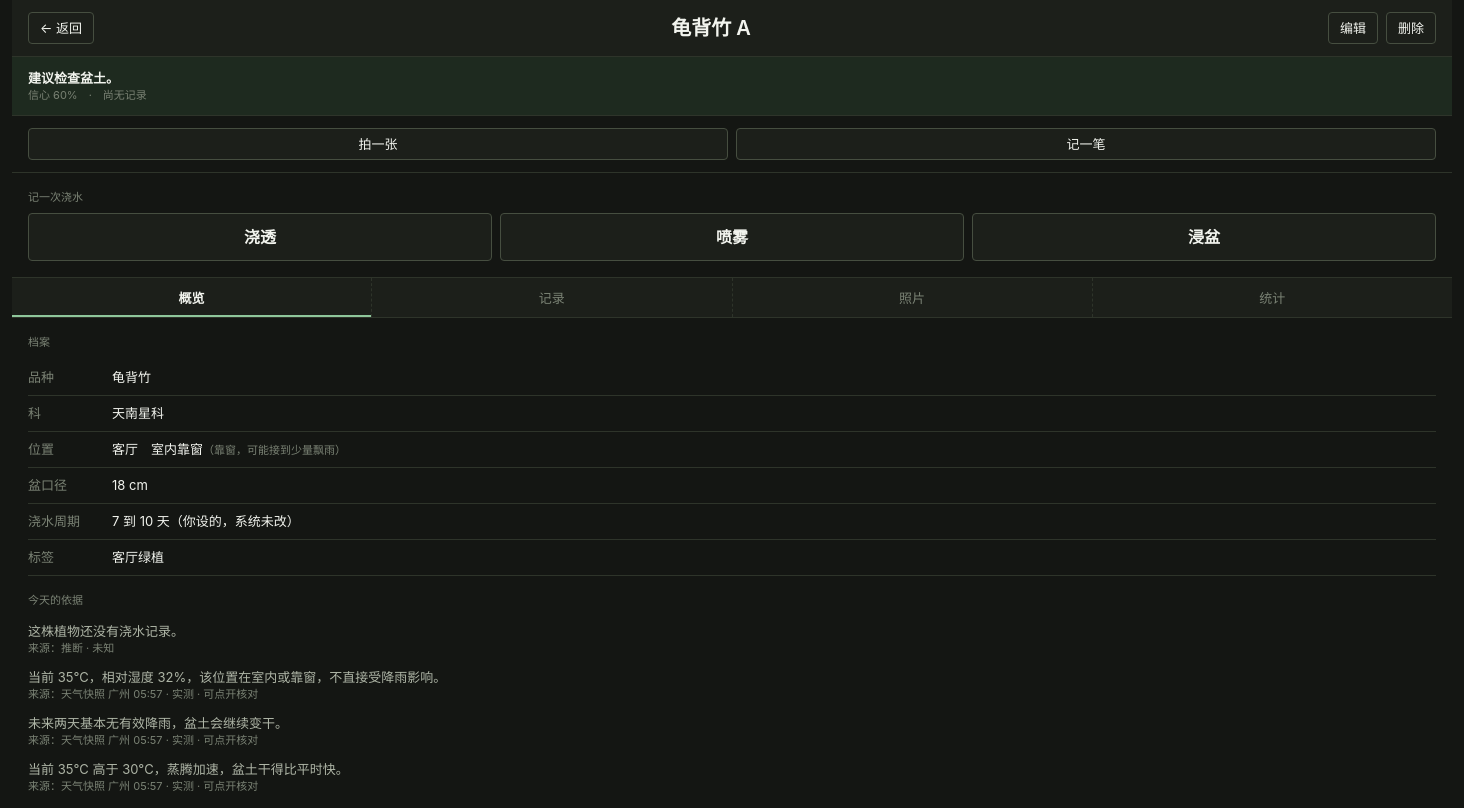
Test: 统计 tab：口径可见 › 样本不足时显示「样本不足」而不是 0
This screenshot has width=1464, height=808.
Click the button "统计" at [1272, 298], box [1093,278,1452,317]
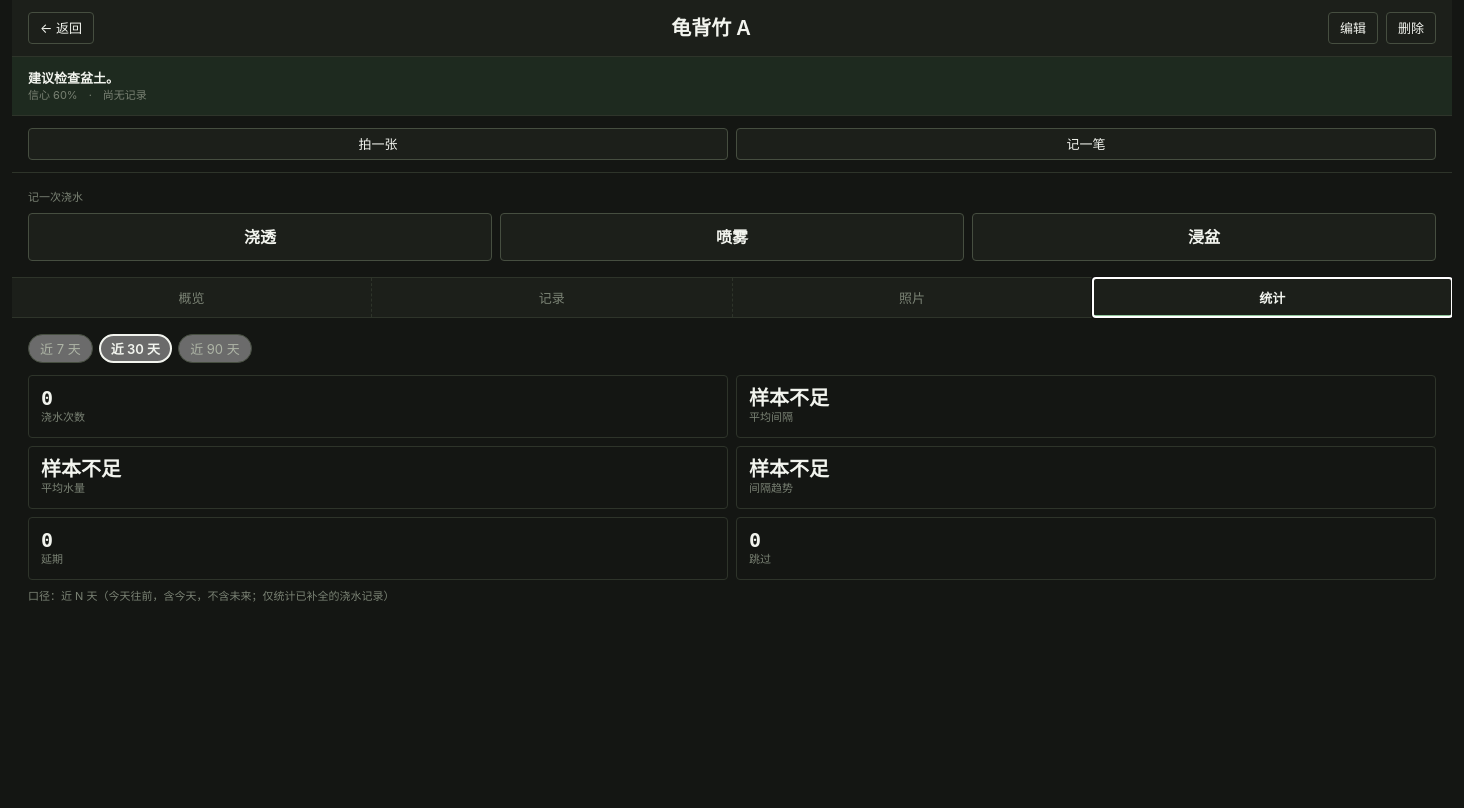
Expected: the 1st text "样本不足" is shown, [749,386,829,410]
